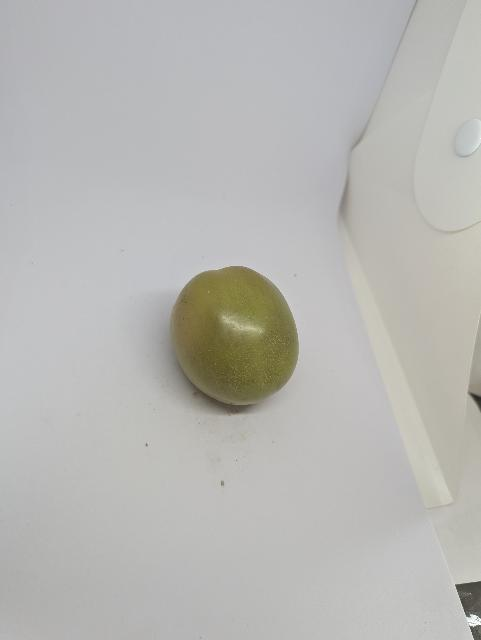green: (141, 248, 325, 414)
